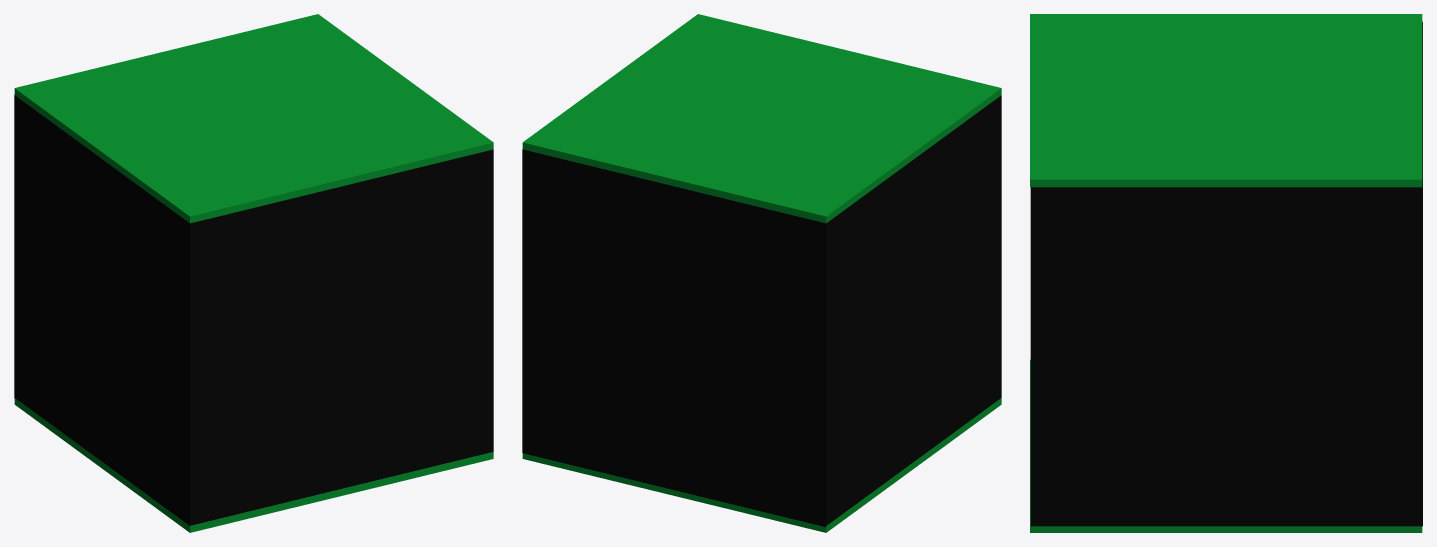
File: EsquineroVerde.fbx
The picture shows the model from 3 angles, left to right: view 1: azimuth 30°, elevation 25°; view 2: azimuth 150°, elevation 25°; view 3: azimuth 270°, elevation 25°; orthographic projection. The views are drawn at different scales.
Parts seen in each view (by area): view 1: Cube.079, Cube.081, Cube.082; view 2: Cube.079, Cube.081, Cube.082; view 3: Cube.079, Cube.081, Cube.082.
Boxes of the visible parts, bbox=[...] form: Cube.079: bbox=[14, 95, 493, 525]; Cube.081: bbox=[14, 14, 493, 223]; Cube.082: bbox=[14, 398, 493, 532]; Cube.079: bbox=[522, 95, 1001, 526]; Cube.081: bbox=[522, 14, 1001, 223]; Cube.082: bbox=[522, 398, 1001, 532]; Cube.079: bbox=[1030, 21, 1422, 526]; Cube.081: bbox=[1030, 14, 1422, 187]; Cube.082: bbox=[1030, 359, 1422, 532].
Bounding box in the file's own units: 73.3 × 72.96 × 73.48.
